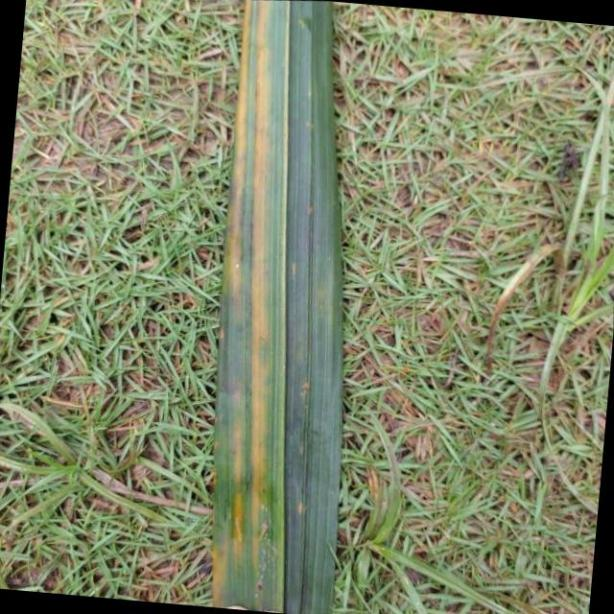Megnesium: (213, 0, 347, 614)
